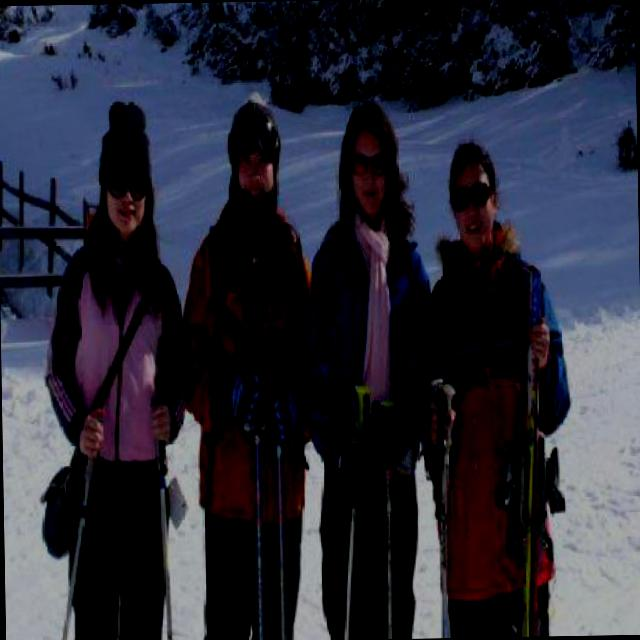Person: (35, 65, 196, 640), (416, 132, 598, 636), (176, 38, 320, 640), (297, 81, 433, 639)
